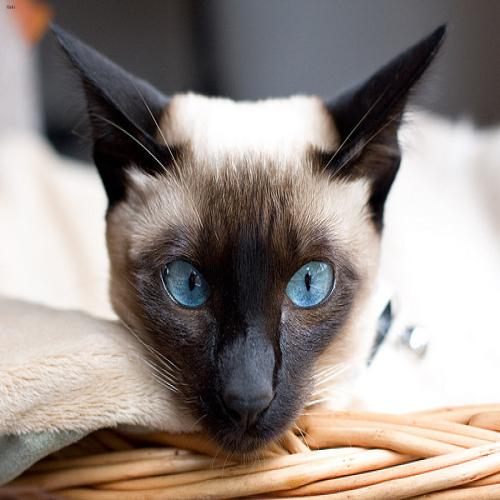siamese: (45, 10, 461, 466)
